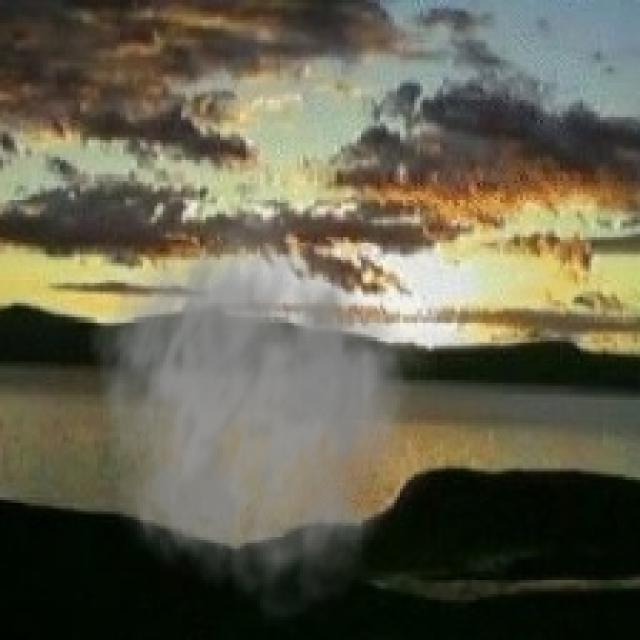smoke: (89, 214, 437, 626)
